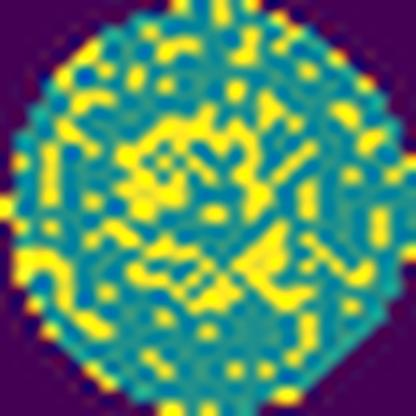Donut: (91, 94, 318, 336)
